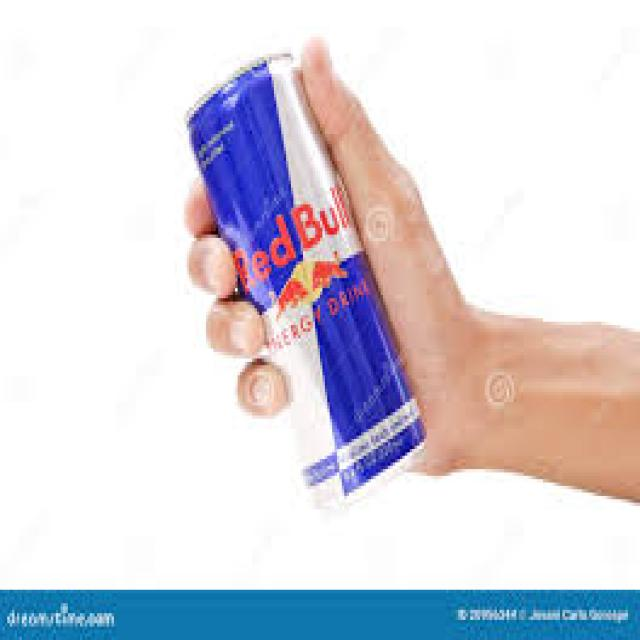red-bull: (169, 32, 437, 521)
